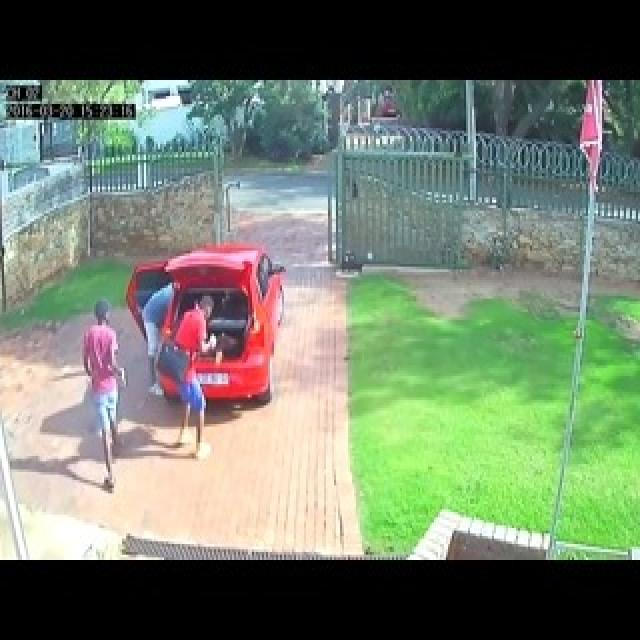thief: (173, 294, 227, 348), (145, 268, 180, 321), (95, 298, 123, 350)
